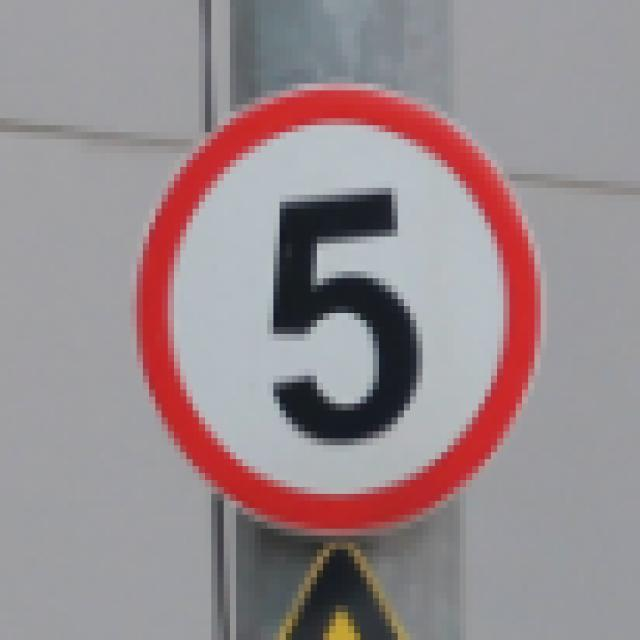Speed: (132, 70, 563, 547)
